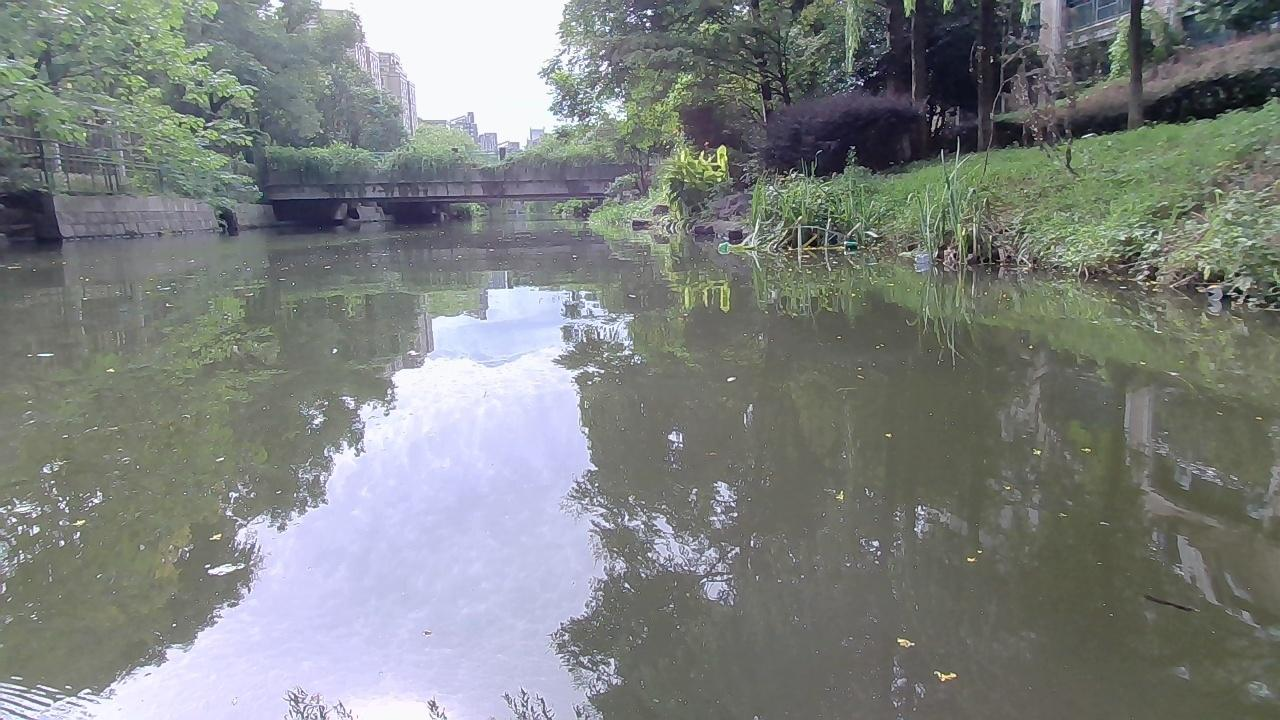bottle: (912, 252, 935, 263), (841, 240, 857, 251), (717, 241, 729, 251)
